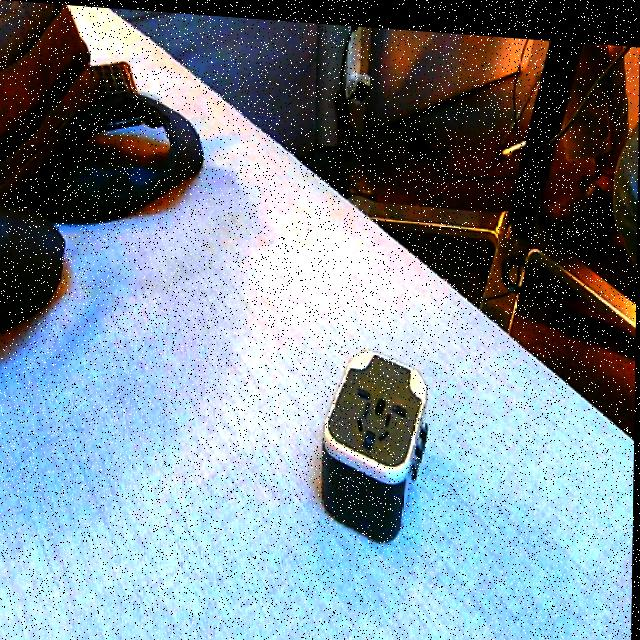adapter: (320, 339, 430, 539)
